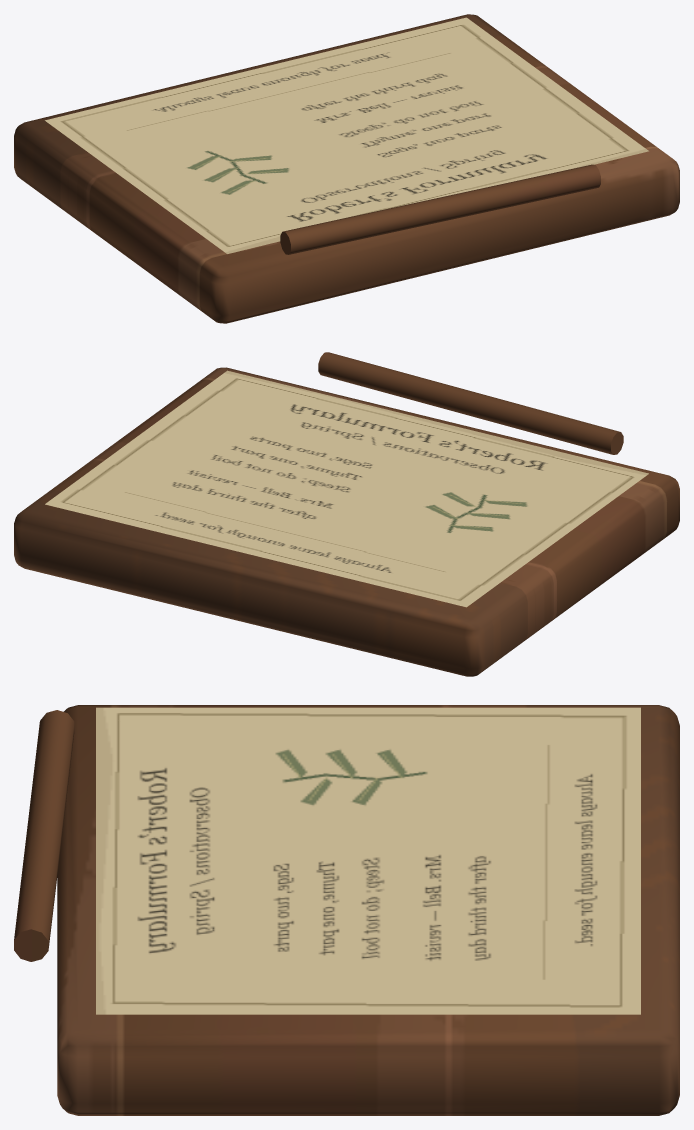
Rendered from CM_LI03_FieldNotebook.fbx.
3 views of the same model, one above another, from view 1: azimuth 30°, elevation 25°; view 2: azimuth 150°, elevation 25°; view 3: azimuth 270°, elevation 25° (orthographic). The views are drawn at different scales.
Parts seen in each view (by area): view 1: CM_LI03_FieldNotebook; view 2: CM_LI03_FieldNotebook; view 3: CM_LI03_FieldNotebook.
Boxes of the visible parts, x1,y1,x2,y2 form: CM_LI03_FieldNotebook: (14, 14, 679, 323); CM_LI03_FieldNotebook: (14, 352, 679, 676); CM_LI03_FieldNotebook: (14, 705, 679, 1115).
Bounding box in the file's own units: 0.31 × 0.052 × 0.2566.
